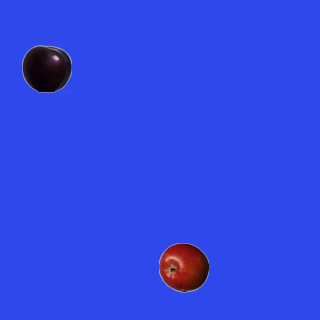Apple Braeburn: (158, 242, 208, 292)
Cherry Wax Black: (21, 43, 71, 93)
